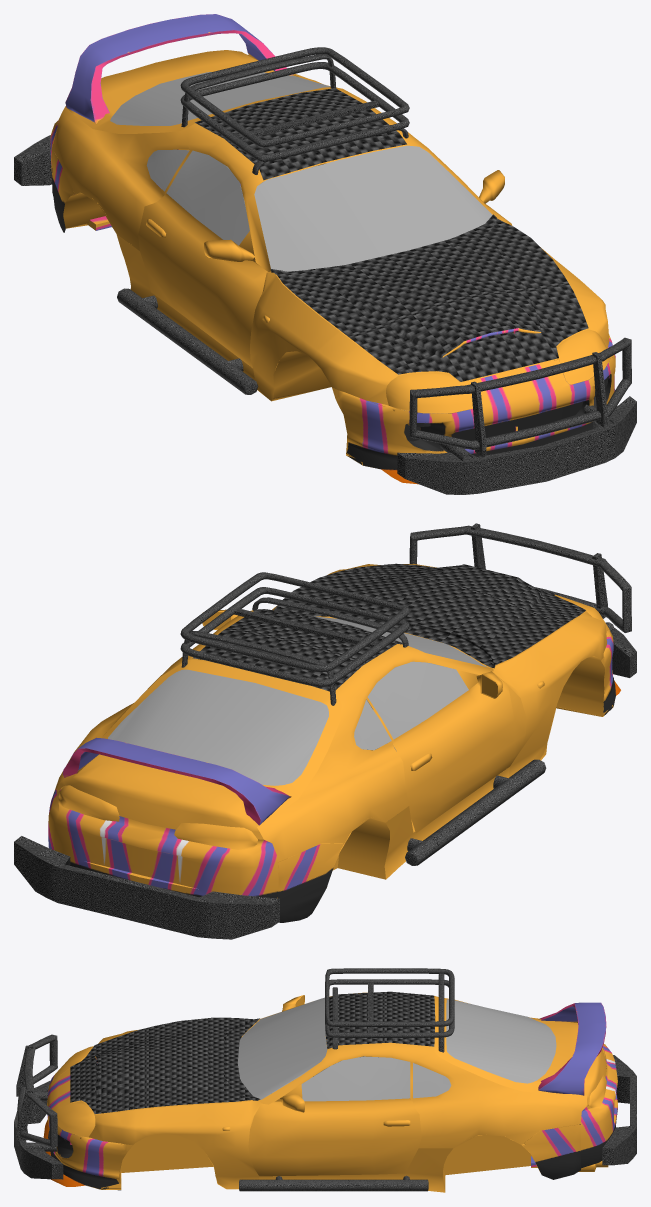
Rendered from supraNew.fbx.
3 renders of one model, top to bottom at view 1: azimuth 30°, elevation 25°; view 2: azimuth 150°, elevation 25°; view 3: azimuth 270°, elevation 25°, orthographic. The views are drawn at different scales.
Parts seen in each view (by area): view 1: pasted__sup1_base, airtake2, bumper_lvl3, bumper_sup1:bumper.002, bumper_lvl4, pasted__spoiler, bumper_sup1:back_bumper.003; view 2: pasted__sup1_base, airtake2, bumper_lvl3, bumper_sup1:back_bumper.003, bumper_lvl4, pasted__spoiler, bumper_sup1:bumper.002; view 3: pasted__sup1_base, airtake2, bumper_lvl4, bumper_lvl3, bumper_sup1:back_bumper.003, bumper_sup1:bumper.002, pasted__spoiler.
Part boxes in pixels (x1,y1,x2,y2): pasted__sup1_base: (52,50,612,465); airtake2: (195,88,588,381); bumper_lvl3: (14,135,636,494); bumper_sup1:bumper.002: (332,334,617,484); bumper_lvl4: (117,47,409,394); pasted__spoiler: (65,14,293,124); bumper_sup1:back_bumper.003: (50,120,74,232); pasted__sup1_base: (53,563,613,898); airtake2: (192,563,585,691); bumper_lvl3: (14,523,636,939); bumper_sup1:back_bumper.003: (48,786,344,922); bumper_lvl4: (180,572,546,865); pasted__spoiler: (63,737,291,825); bumper_sup1:bumper.002: (601,628,620,715); pasted__sup1_base: (53,992,608,1192); airtake2: (70,991,434,1113); bumper_lvl4: (239,968,454,1191); bumper_lvl3: (14,1034,636,1179); bumper_sup1:back_bumper.003: (522,1044,617,1179); bumper_sup1:bumper.002: (43,1068,132,1190); pasted__spoiler: (538,1002,606,1095).
Size of the model in its own units: 212 by 136 by 508.
